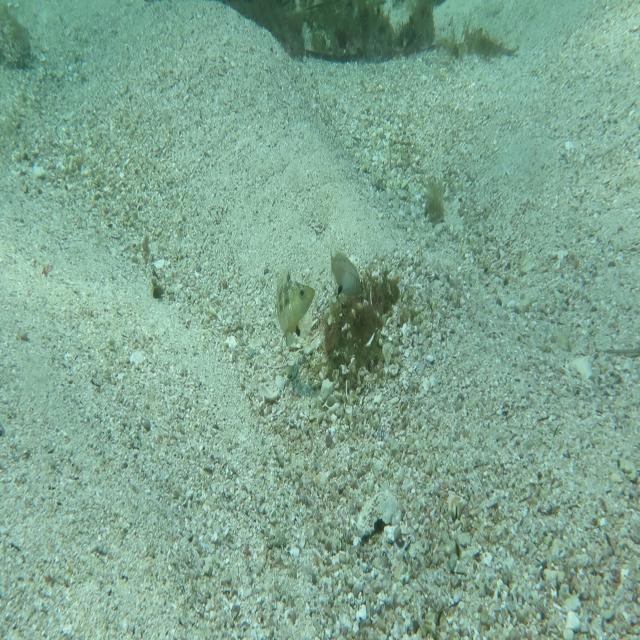DAN_CIRC: (271, 265, 324, 343)
female: (326, 244, 366, 306)
nest: (303, 264, 399, 401)
vegetation: (235, 0, 454, 65), (420, 180, 448, 233)
